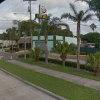Palm tree: (59, 4, 100, 73)
